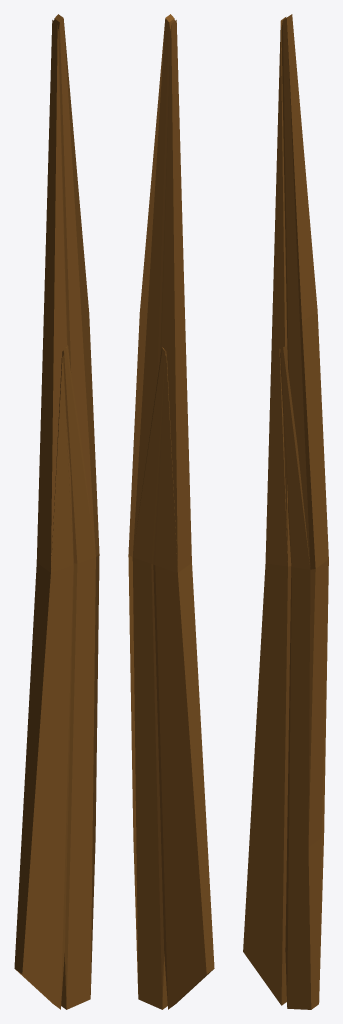
Rendered from Splinter.fbx.
3 renders of one model, left to right at view 1: azimuth 30°, elevation 25°; view 2: azimuth 150°, elevation 25°; view 3: azimuth 330°, elevation 25°, orthographic.
Parts seen in each view (by area): view 1: Long, Medium; view 2: Long, Medium; view 3: Long, Medium.
Part boxes in pixels (left/top/right/bottom): Long: left=14, top=14, right=99, bottom=1009; Medium: left=51, top=345, right=95, bottom=572; Long: left=128, top=14, right=214, bottom=1009; Medium: left=133, top=347, right=177, bottom=572; Long: left=243, top=14, right=328, bottom=1009; Medium: left=265, top=346, right=310, bottom=569.
Size of the model in its own units: 0.6818 by 8.62 by 0.2476.
